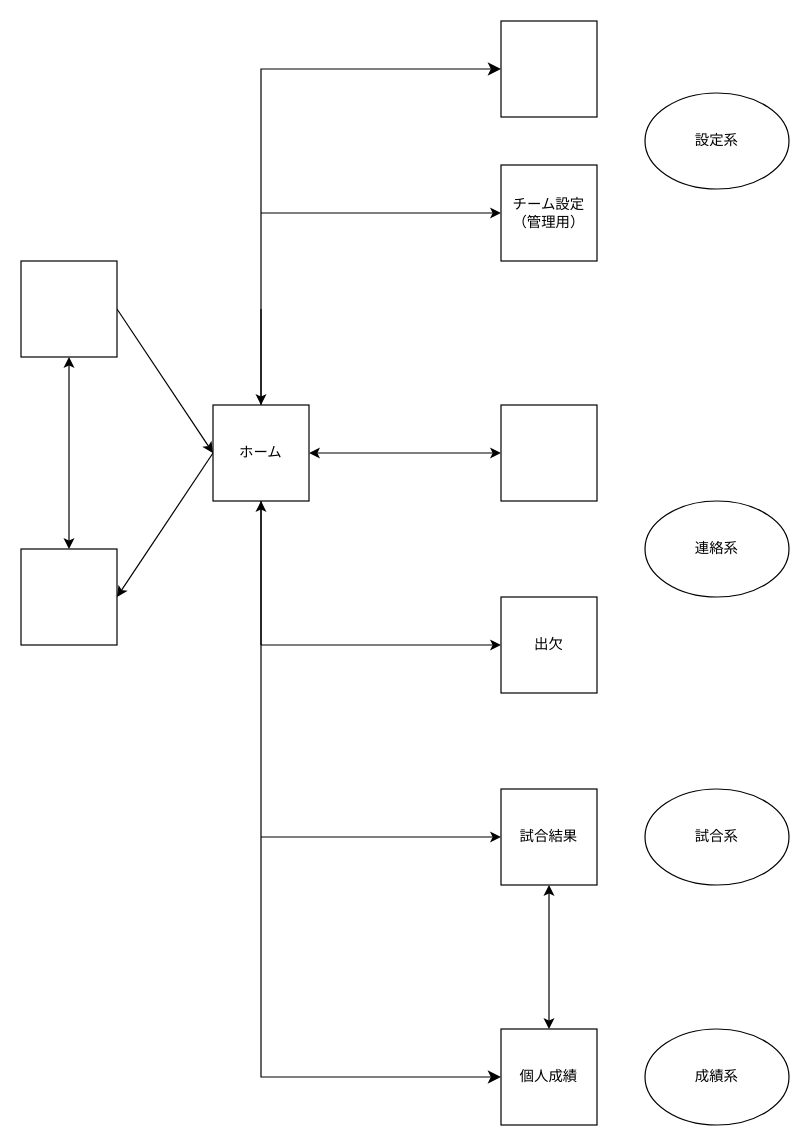
Image size: 810x1146. Some labels were removed from this diagram. Here are the shapes that lost their labels. From the top down, the centre of each, then its label:
At point (548, 68): "個人設定".
At point (68, 308): "ログイン".
At point (548, 452): "チャット".
At point (68, 596): "ログアウト".
